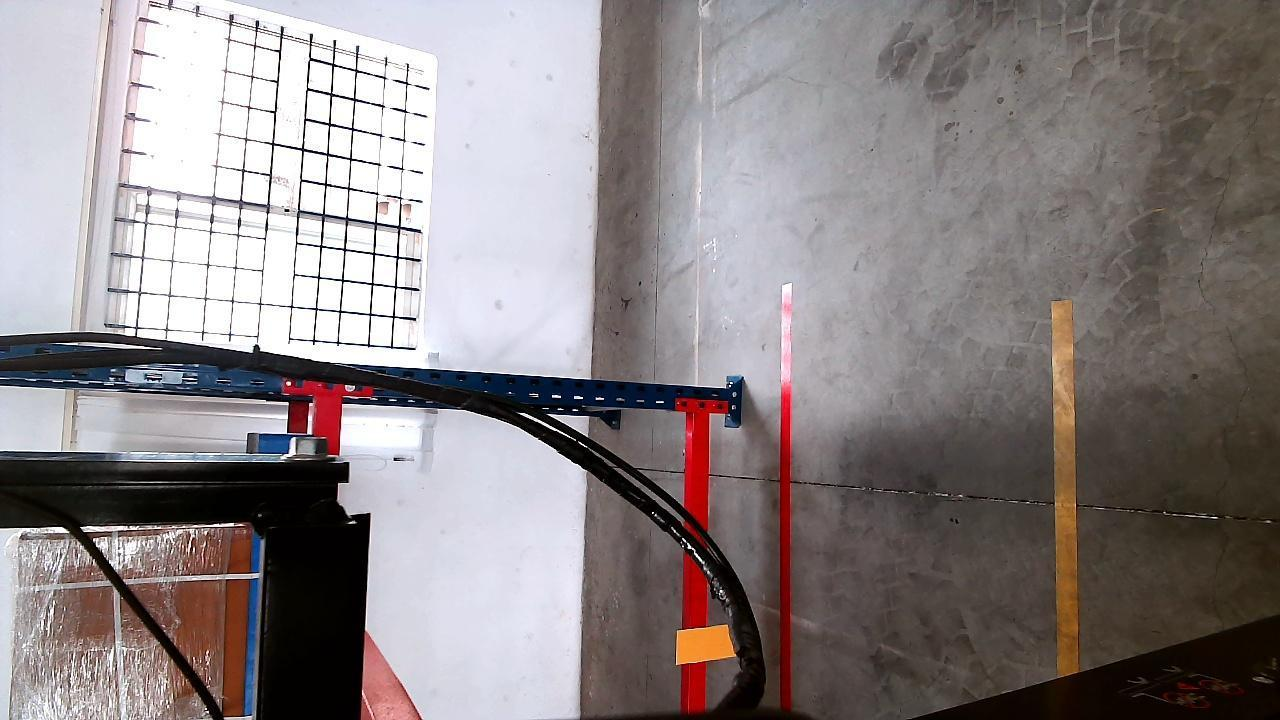h_rack: (681, 406, 714, 712)
orange_strip: (678, 624, 735, 663)
red_line: (775, 282, 796, 703)
yellow_line: (1048, 298, 1083, 679)
